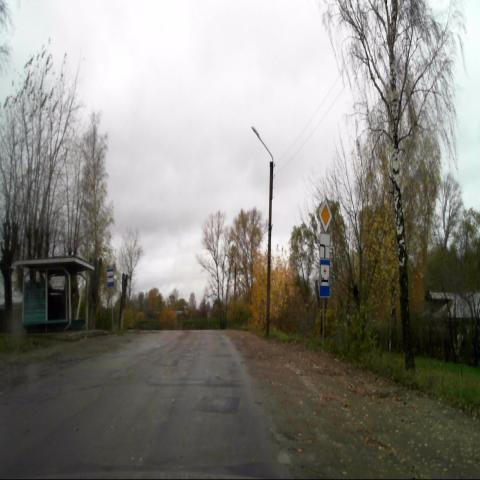7_2: (320, 258, 330, 296)
